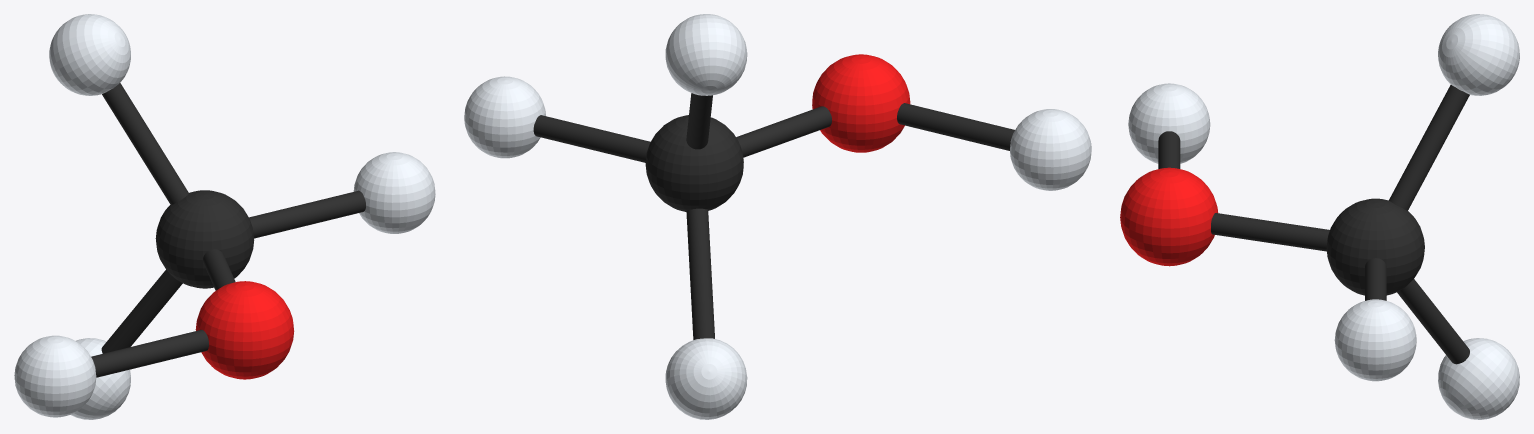
The model's file is methanol.fbx.
The picture shows the model from 3 angles, left to right: view 1: azimuth 30°, elevation 25°; view 2: azimuth 150°, elevation 25°; view 3: azimuth 270°, elevation 25°; orthographic projection.
Visible parts, largest first — view 1: alkanoles; view 2: alkanoles; view 3: alkanoles.
Boxes of the visible parts, x1,y1,x2,y2 form: alkanoles: [14, 14, 435, 419]; alkanoles: [464, 14, 1091, 419]; alkanoles: [1120, 14, 1519, 419].
Bounding box in the file's own units: 217 × 161 × 146.
